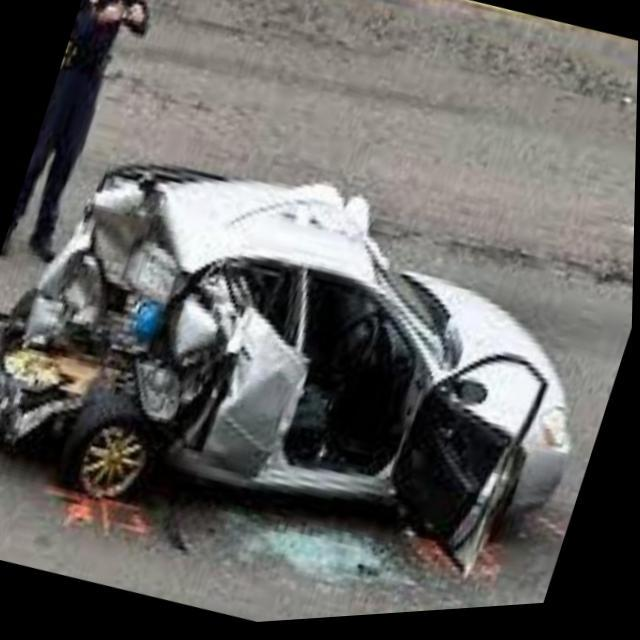crash: (0, 163, 364, 503)
